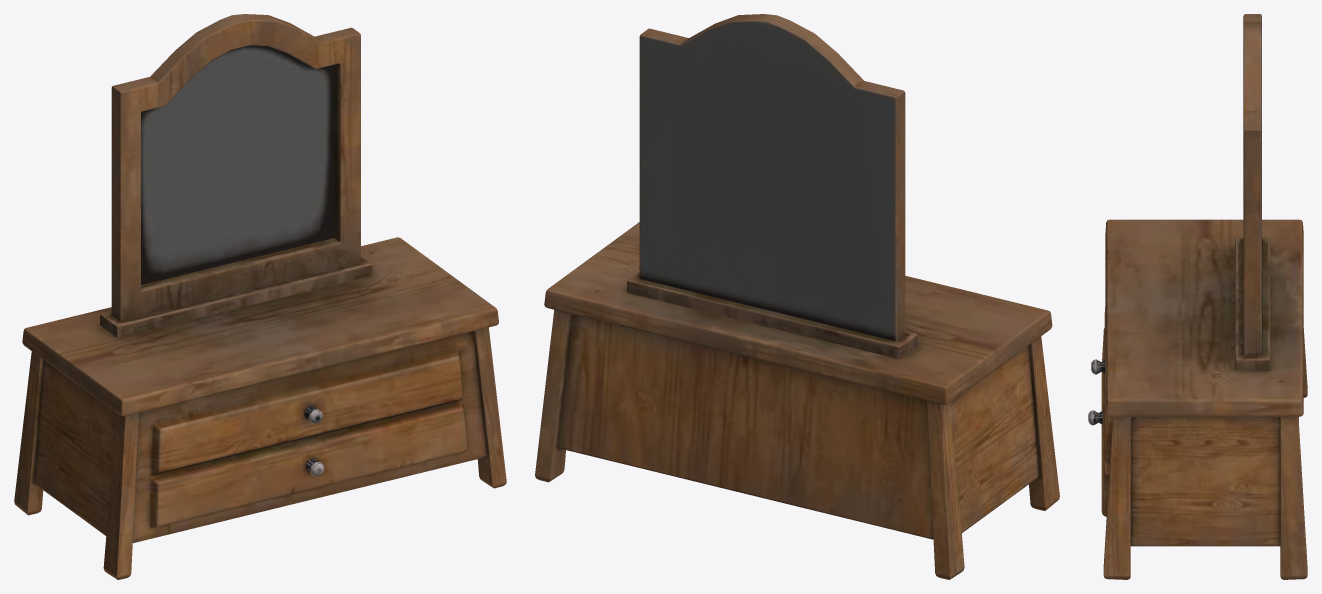
Rendered from s_tocador.glb.
3 renders of one model, left to right at view 1: azimuth 30°, elevation 25°; view 2: azimuth 150°, elevation 25°; view 3: azimuth 270°, elevation 25°, orthographic. The views are drawn at different scales.
Visible parts, largest first — view 1: Object_2; view 2: Object_2; view 3: Object_2.
Boxes of the visible parts, left/top/right/bottom form: Object_2: left=14, top=14, right=506, bottom=579; Object_2: left=535, top=14, right=1059, bottom=579; Object_2: left=1088, top=14, right=1307, bottom=579.
Size of the model in its own units: 1.5 by 1.7 by 0.7393.
1 material, 1 textured.
